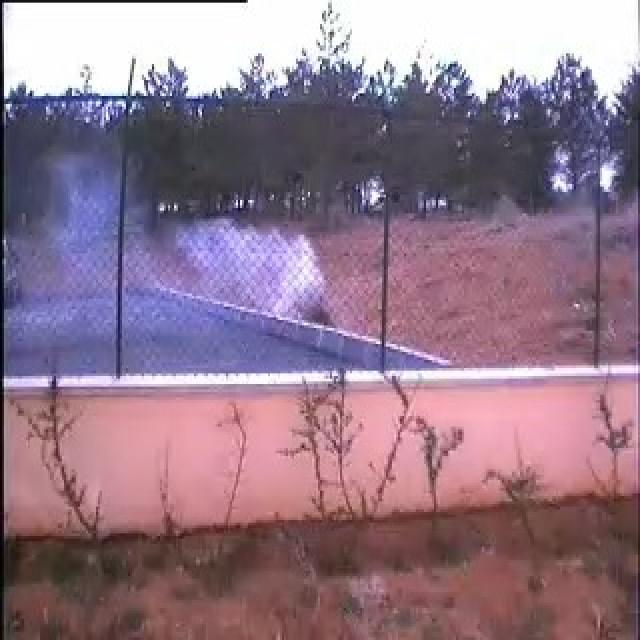smoke: (61, 145, 327, 364)
